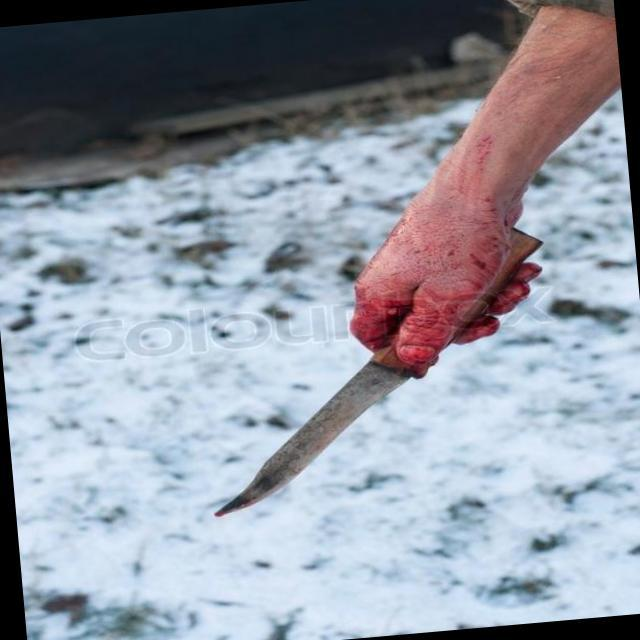Knife: (183, 275, 524, 528)
